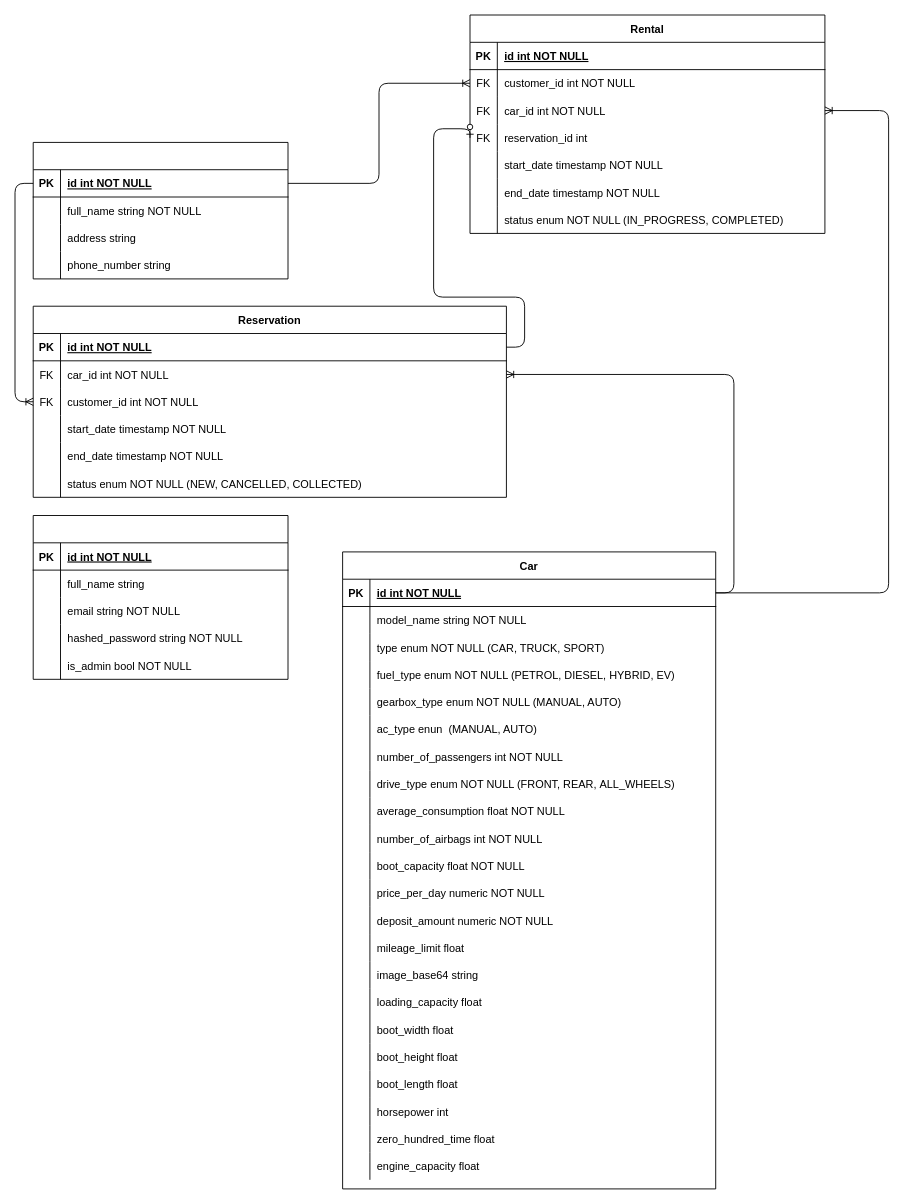
Some shapes in this 904 by 1204 pixel diagram are drawn without their labels. Each missing label, with the box of its shape:
Customer: (32, 142, 288, 279)
User: (32, 515, 288, 679)
